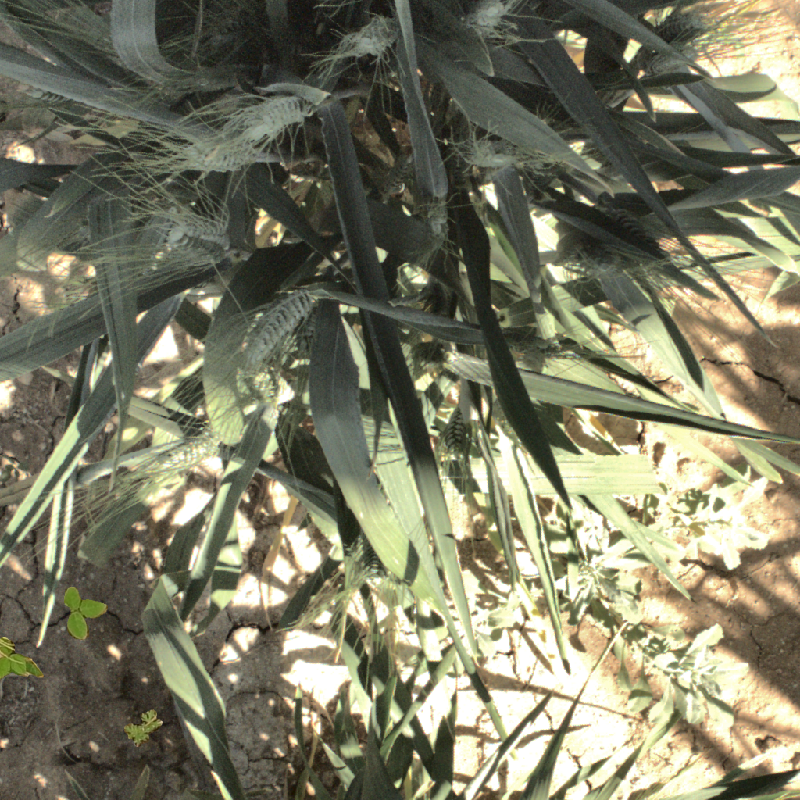spikelet: (242, 290, 317, 371), (635, 24, 743, 73), (235, 93, 305, 141), (184, 132, 256, 173), (171, 220, 232, 264), (162, 428, 220, 470), (435, 405, 477, 461), (350, 13, 398, 57), (461, 1, 508, 36)
weed: (479, 480, 779, 725), (64, 587, 108, 640), (1, 637, 44, 681), (124, 709, 163, 747)
